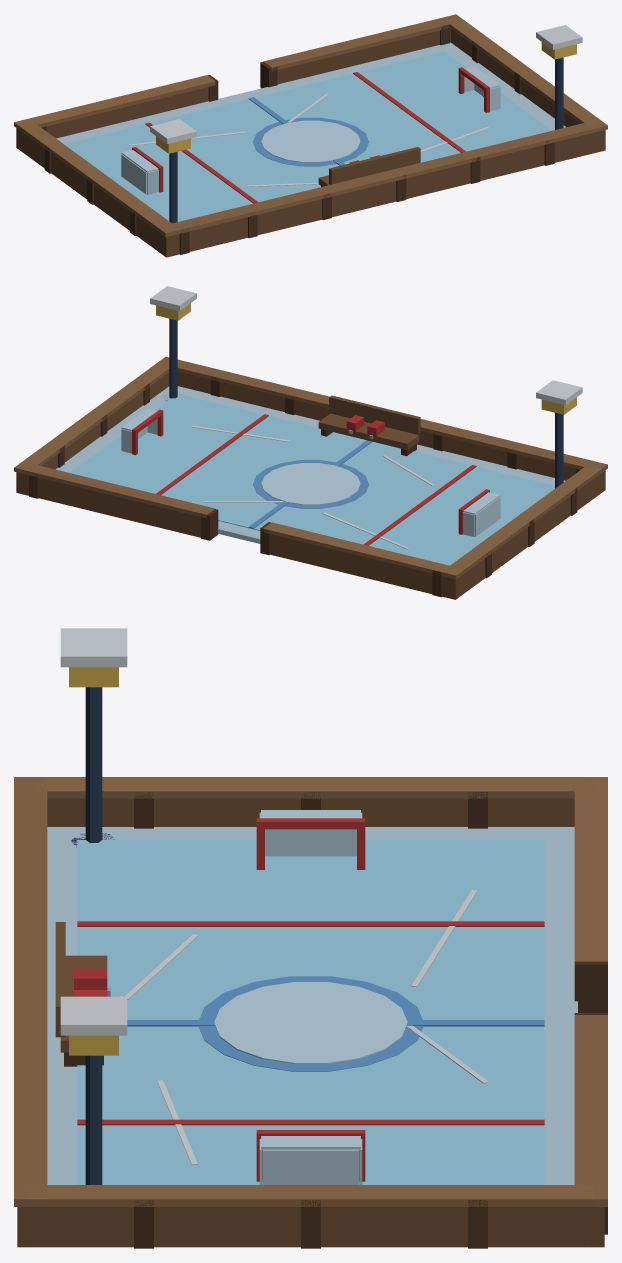
File: Decor_IcePalace_Rink.fbx
3 views of the same model, one above another, from view 1: azimuth 30°, elevation 25°; view 2: azimuth 150°, elevation 25°; view 3: azimuth 270°, elevation 25° (orthographic). The views are drawn at different scales.
Visible parts, largest first — view 1: Rink_Body; view 2: Rink_Body; view 3: Rink_Body.
Boxes of the visible parts, box(x1,y1,x2,y2) form: Rink_Body: box(14, 14, 607, 257); Rink_Body: box(14, 286, 607, 599); Rink_Body: box(14, 628, 607, 1248).
Size of the model in its own units: 29.6 by 7 by 17.6.
